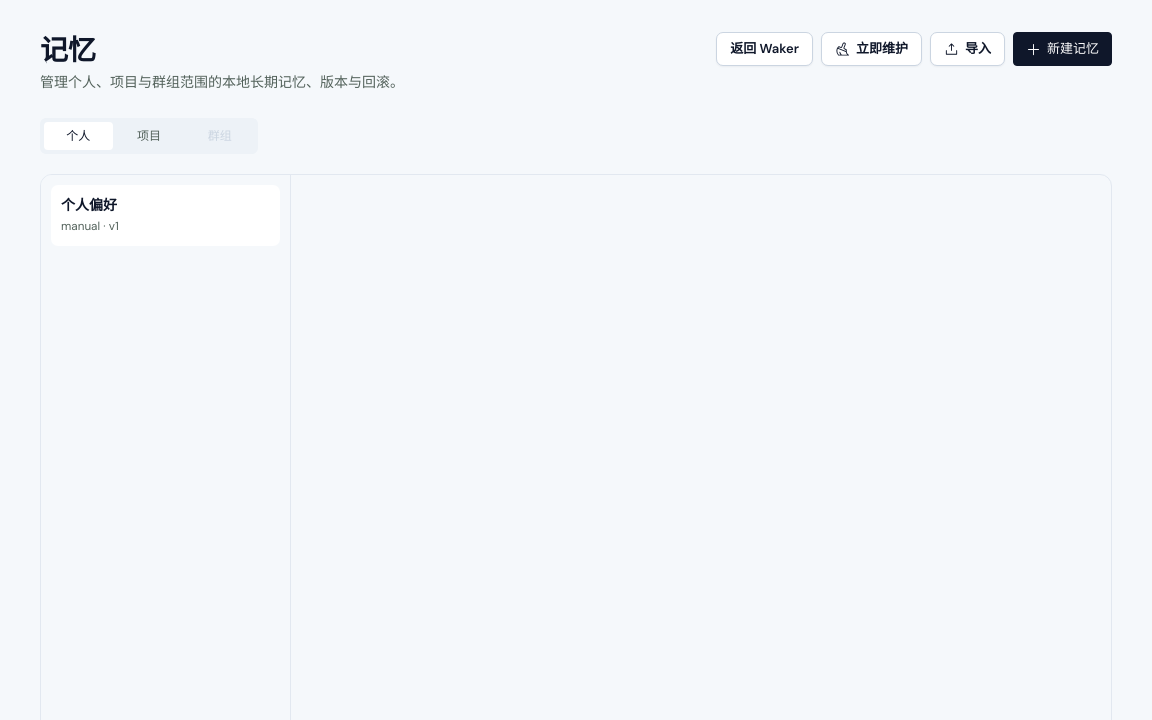
Test: MemoryView 范围筛选 › 当前 Waker 没有项目时显示空态且不按项目 scope 拉取
Check: the button "个人偏好 manual · v1" is shown, box [51,185,280,246]
Step 1. Click the tab "项目" → (149, 136), box [115,122,183,150]
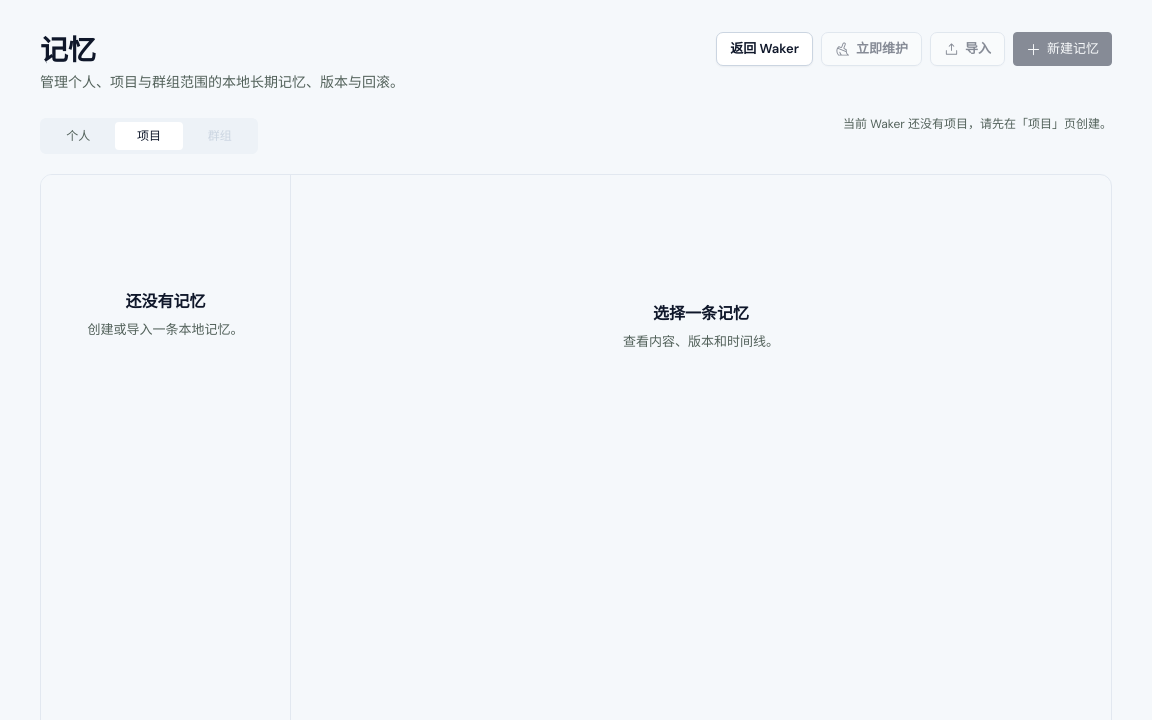
Check: the text "当前 Waker 还没有项目，请先在「项目」页创建。" is shown, box [843,115,1112,133]
Check: the heading "还没有记忆" is shown, box [126,290,206,314]
Check: the button "个人偏好" is gone
